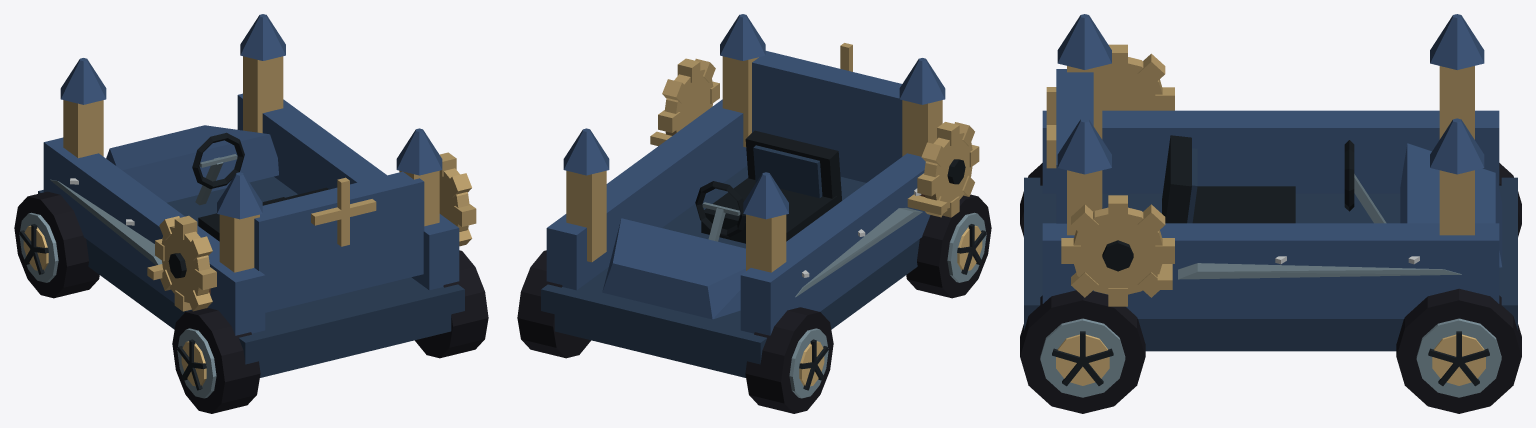
File: kart.glb
3 renders of one model, left to right at view 1: azimuth 30°, elevation 25°; view 2: azimuth 150°, elevation 25°; view 3: azimuth 270°, elevation 25°, orthographic. The views are drawn at different scales.
Parts seen in each view (by area): view 1: identity-reliquary-reliquary-arched-stone-chest, wheel-rear-left, identity-reliquary-motif-gears, wheel-front-left, wheel-rear-right, identity-reliquary-driver-cockpit, identity-reliquary-motif-swords; view 2: identity-reliquary-reliquary-arched-stone-chest, identity-reliquary-driver-cockpit, identity-reliquary-motif-gears, wheel-front-left, wheel-rear-left, wheel-front-right, identity-reliquary-motif-swords; view 3: identity-reliquary-reliquary-arched-stone-chest, identity-reliquary-motif-gears, wheel-front-right, wheel-rear-right, identity-reliquary-driver-cockpit, identity-reliquary-motif-swords.
Boxes of the visible parts, bbox=[...] form: identity-reliquary-reliquary-arched-stone-chest: bbox=[38, 14, 464, 377]; wheel-rear-left: bbox=[172, 307, 260, 413]; identity-reliquary-motif-gears: bbox=[155, 152, 476, 311]; wheel-front-left: bbox=[14, 191, 99, 298]; wheel-rear-right: bbox=[415, 250, 488, 358]; identity-reliquary-driver-cockpit: bbox=[192, 132, 329, 241]; identity-reliquary-motif-swords: bbox=[50, 179, 210, 294]; identity-reliquary-reliquary-arched-stone-chest: bbox=[541, 14, 945, 377]; identity-reliquary-driver-cockpit: bbox=[695, 130, 841, 243]; identity-reliquary-motif-gears: bbox=[658, 58, 979, 217]; wheel-front-left: bbox=[745, 307, 833, 413]; wheel-rear-left: bbox=[906, 194, 991, 298]; wheel-front-right: bbox=[517, 250, 590, 358]; identity-reliquary-motif-swords: bbox=[650, 131, 947, 297]; identity-reliquary-reliquary-arched-stone-chest: bbox=[1024, 14, 1517, 351]; identity-reliquary-motif-gears: bbox=[1061, 44, 1174, 306]; wheel-front-right: bbox=[1396, 288, 1521, 413]; wheel-rear-right: bbox=[1020, 290, 1145, 413]; identity-reliquary-driver-cockpit: bbox=[1162, 135, 1386, 223]; identity-reliquary-motif-swords: bbox=[1157, 263, 1461, 289].
Size of the model in its own units: 2.04 by 1.51 by 2.56.
